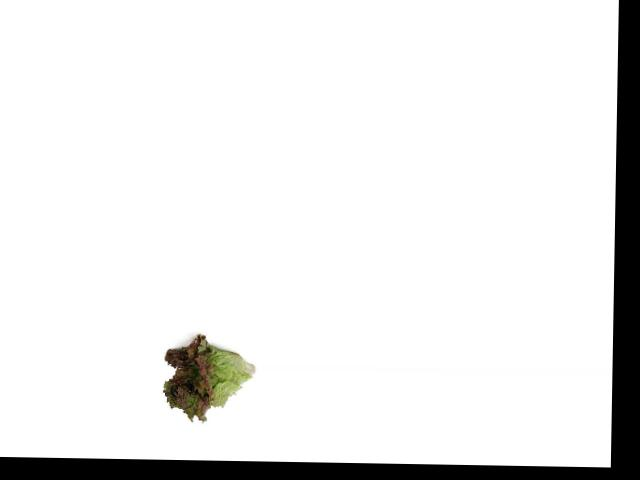lettuce: (150, 325, 258, 426)
